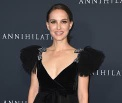female: (43, 5, 76, 47)
